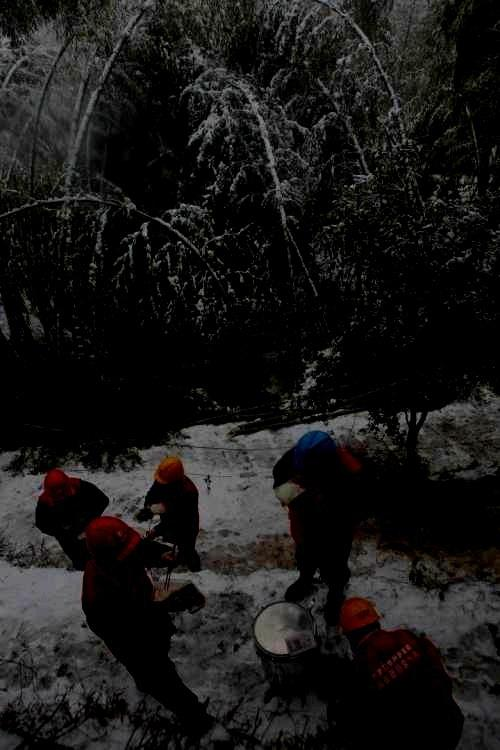helmet: (84, 515, 141, 567), (340, 596, 382, 651), (295, 430, 337, 476), (42, 468, 72, 505), (153, 456, 185, 486)
